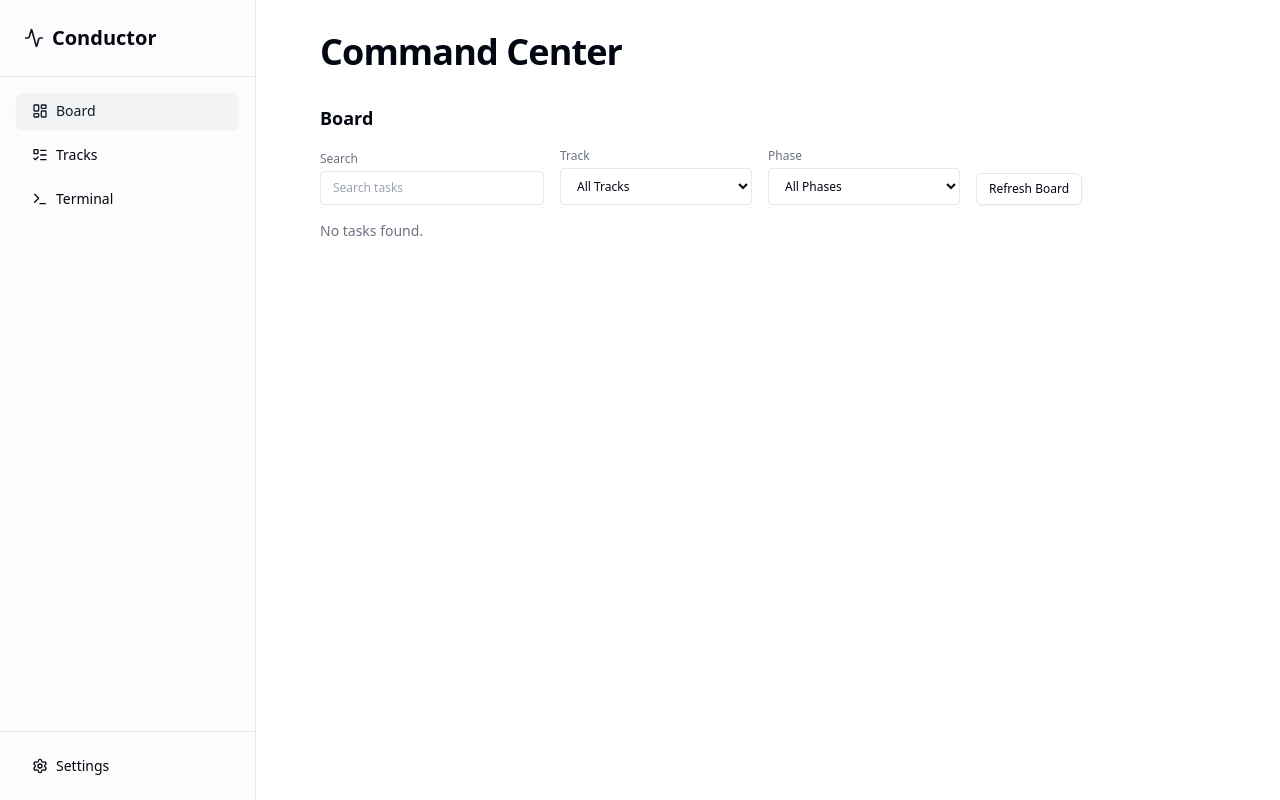
Test: App Component › switches terminal sessions when a tab is selected
Click the button "Terminal" at (128, 199), box [16, 181, 239, 217]
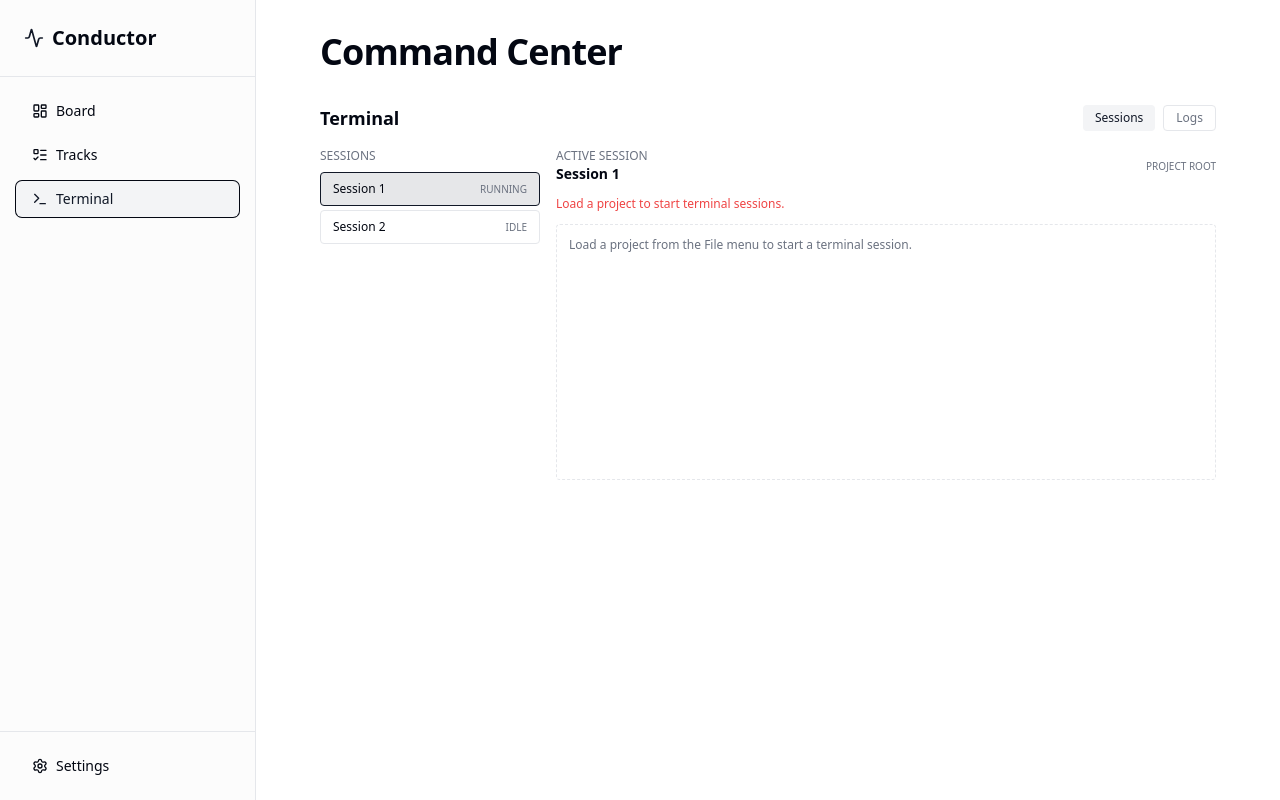
Expected: the element with test id "terminal-session-pane" shows "Session 1", [556, 164, 620, 183]
Click the tab "Session 2 idle" at (430, 227), box [320, 210, 540, 244]
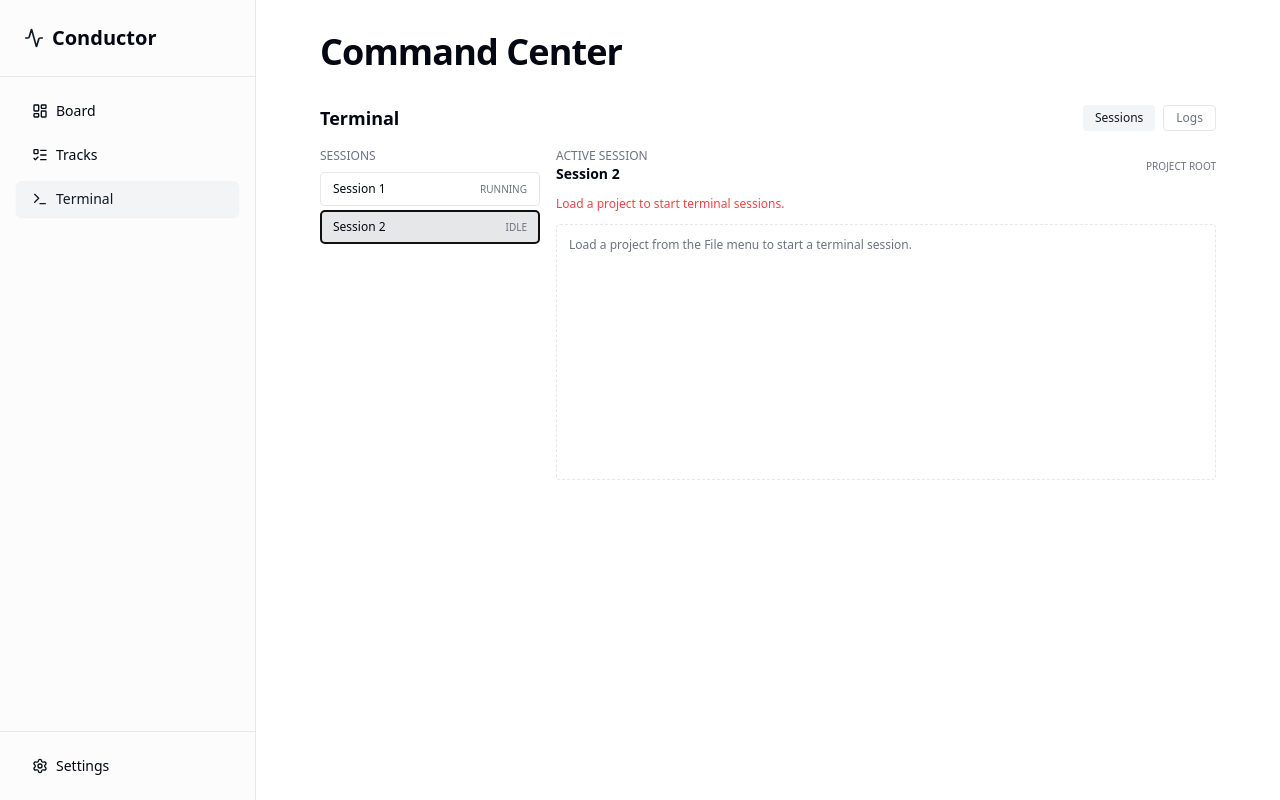
Expected: the element with test id "terminal-session-pane" shows "Session 2", [556, 164, 620, 183]
